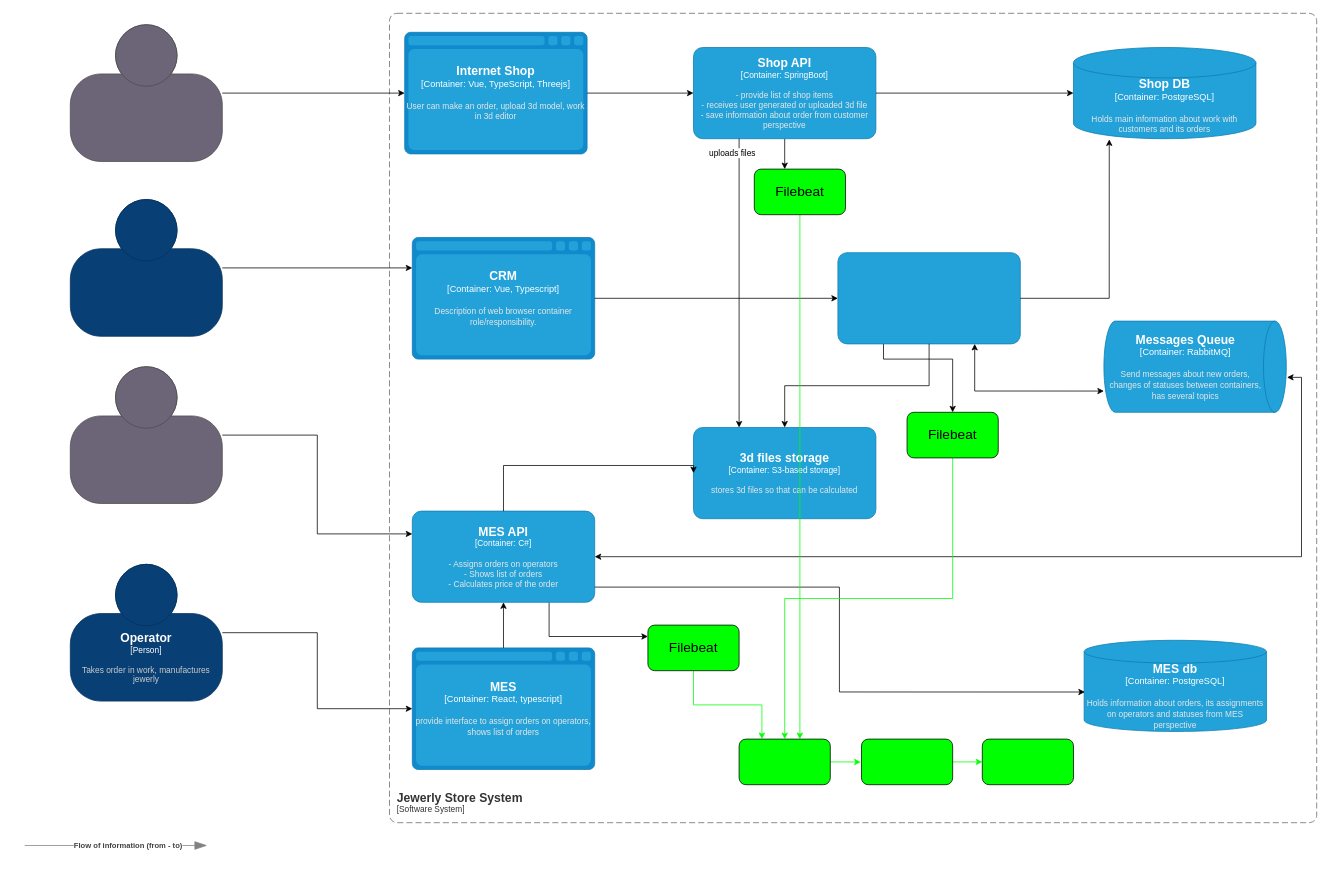
This 1330x871 diagram has some shape labels left out. The centre of each missing label's shape, as x and y in pixels:
API user [Person] Description of external person.: (x=146, y=435)
CRM API [Container: SpringBoot] Description of container role/responsibility.: (x=928, y=298)
Customer [Person] Description of external person.: (x=146, y=93)
Elasticsearch: (x=907, y=761)
Kibana: (x=1028, y=761)
Logstash: (x=784, y=761)
Seller [Person] Operates with order, confirms manufacturing for the user: (x=146, y=267)
